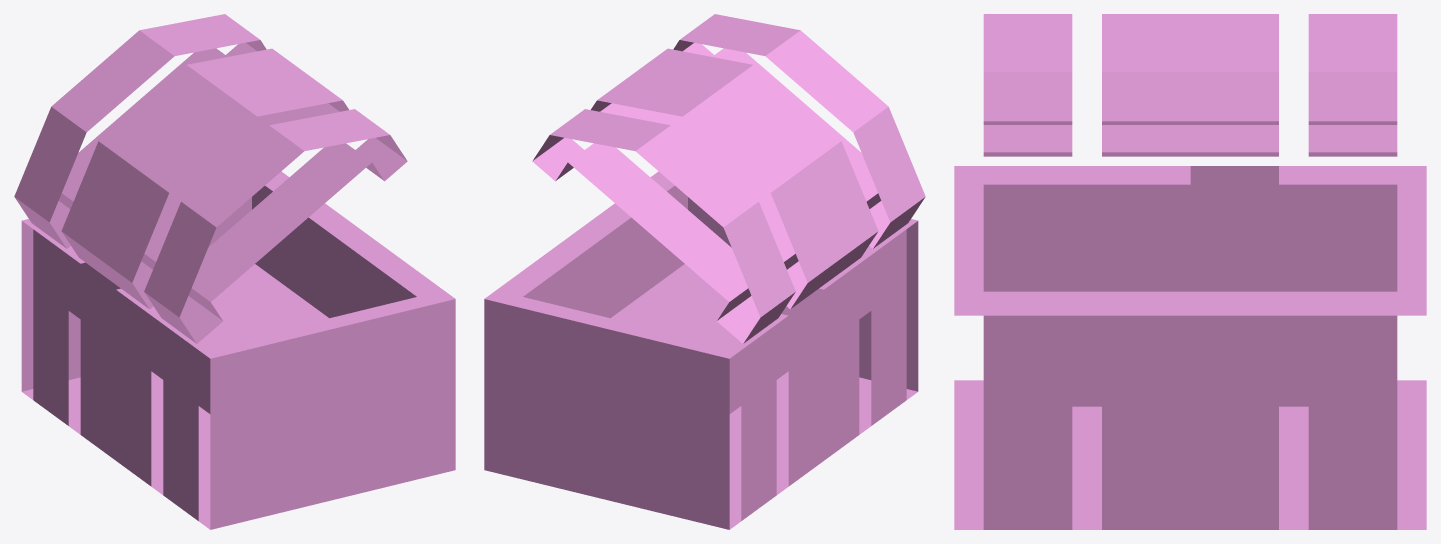
File: pink.fbx
3 views of the same model, side by side, from view 1: azimuth 30°, elevation 25°; view 2: azimuth 150°, elevation 25°; view 3: azimuth 270°, elevation 25° (orthographic). The views are drawn at different scales.
Parts seen in each view (by area): view 1: lid base; view 2: lid base; view 3: lid base.
Boxes of the visible parts, x1,y1,x2,y2 form: lid base: [14, 14, 455, 529]; lid base: [484, 14, 925, 529]; lid base: [954, 14, 1426, 529].
Size of the model in its own units: 323 by 402 by 400.
